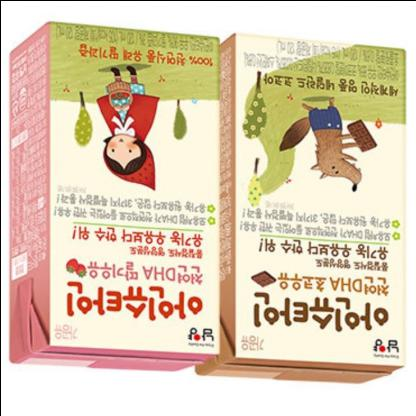tetra: (0, 15, 224, 385), (201, 24, 415, 399)
